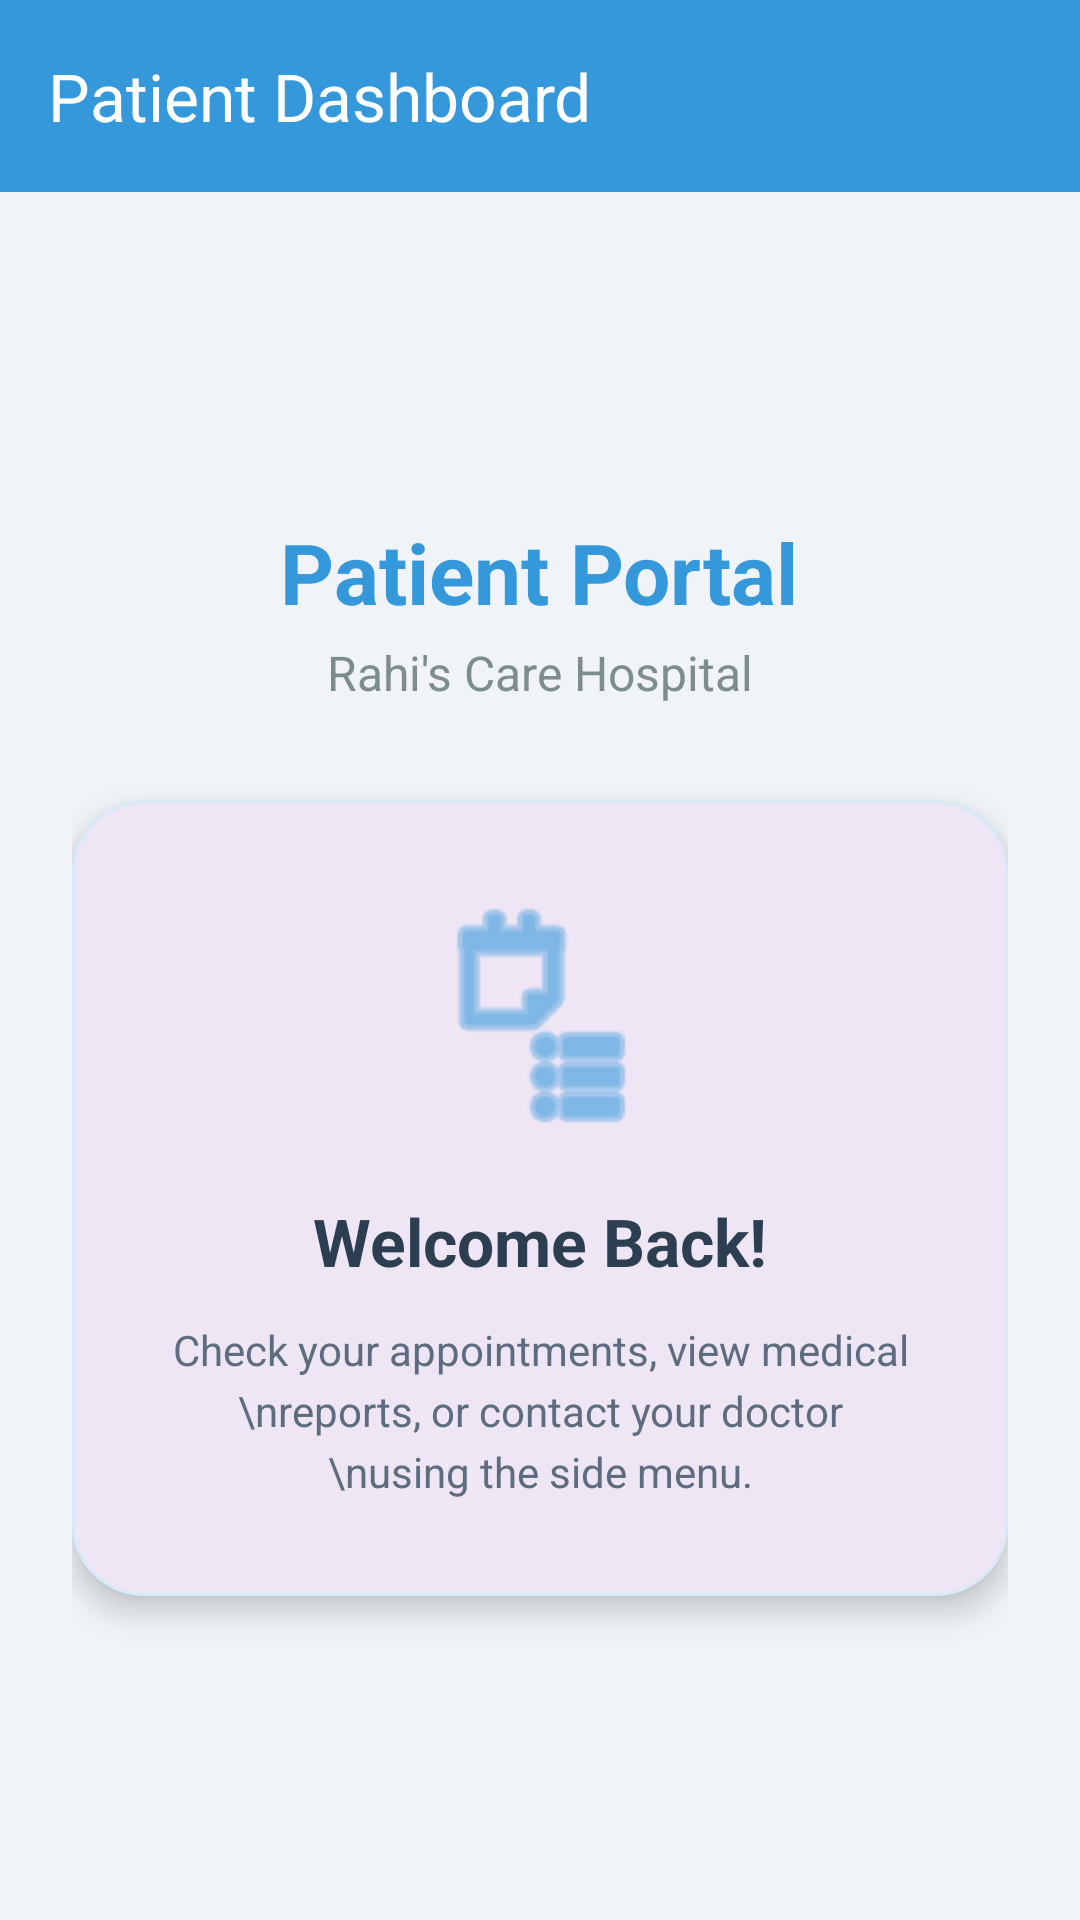

Screen size 1080×1920. Icon name, then its center in pixels as (x=x, y=y):
agenda: (x=541, y=1015)
